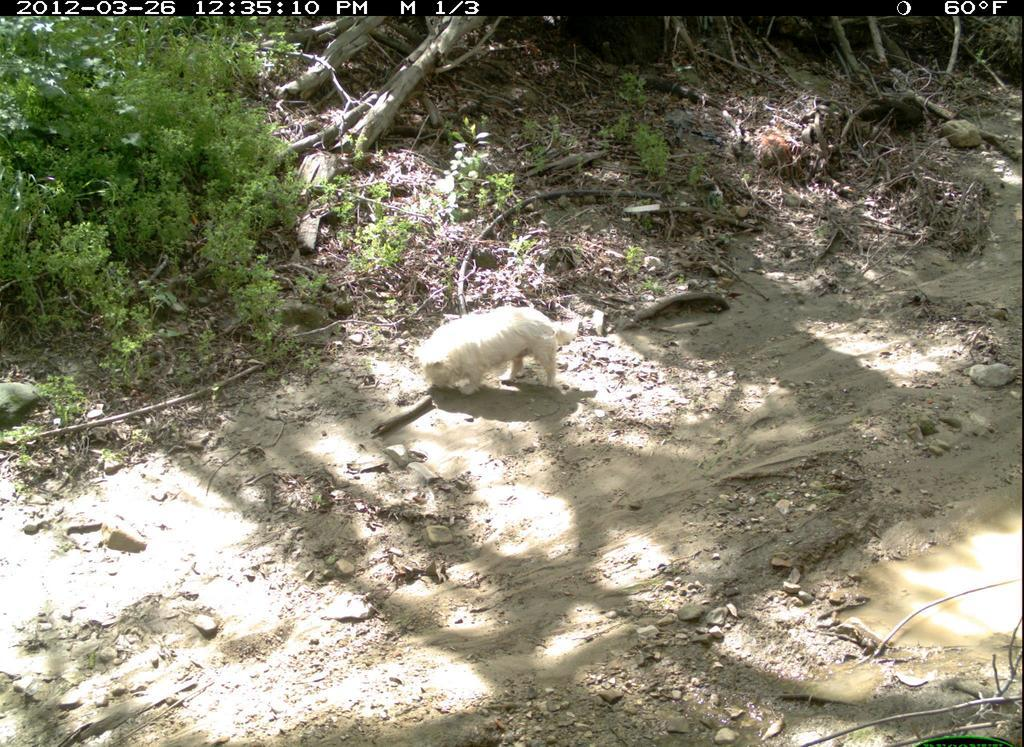dog: (381, 285, 607, 432)
